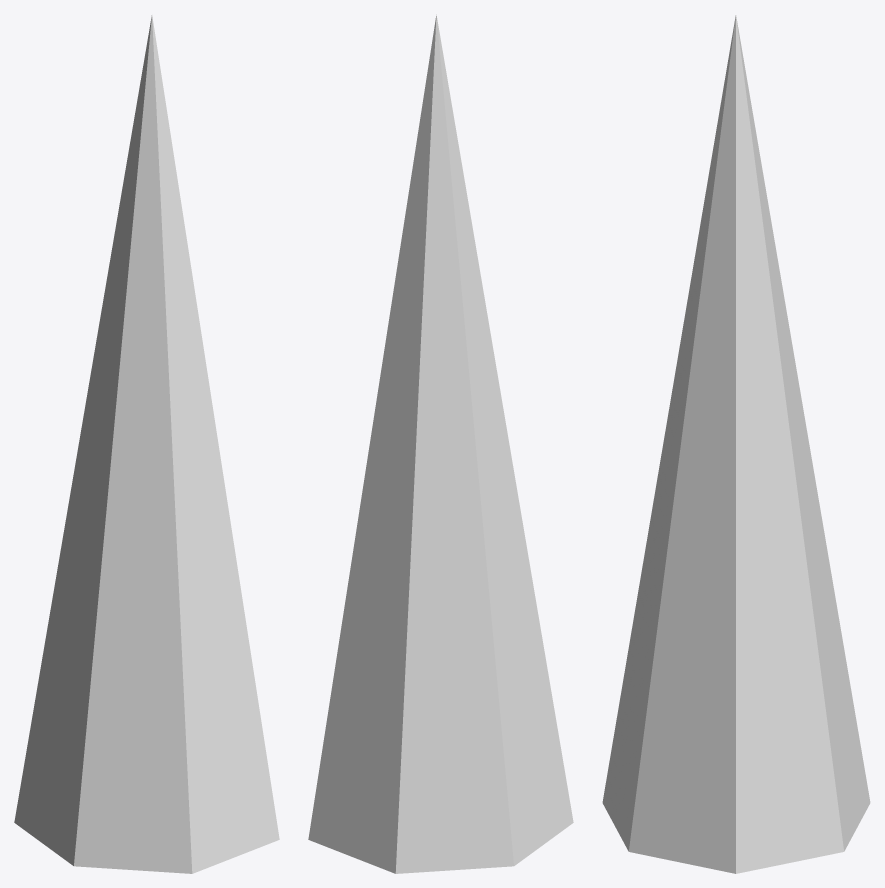
The model's file is Beam2.glb.
3 renders of one model, left to right at view 1: azimuth 30°, elevation 25°; view 2: azimuth 150°, elevation 25°; view 3: azimuth 270°, elevation 25°, orthographic.
Visible parts, largest first — view 1: Beam2; view 2: Beam2; view 3: Beam2.
Boxes of the visible parts, box(x1,y1,x2,y2) form: Beam2: box(14, 15, 279, 873); Beam2: box(308, 14, 573, 873); Beam2: box(602, 15, 870, 873).
Size of the model in its own units: 279 by 946 by 287.
1 material, 1 textured.
